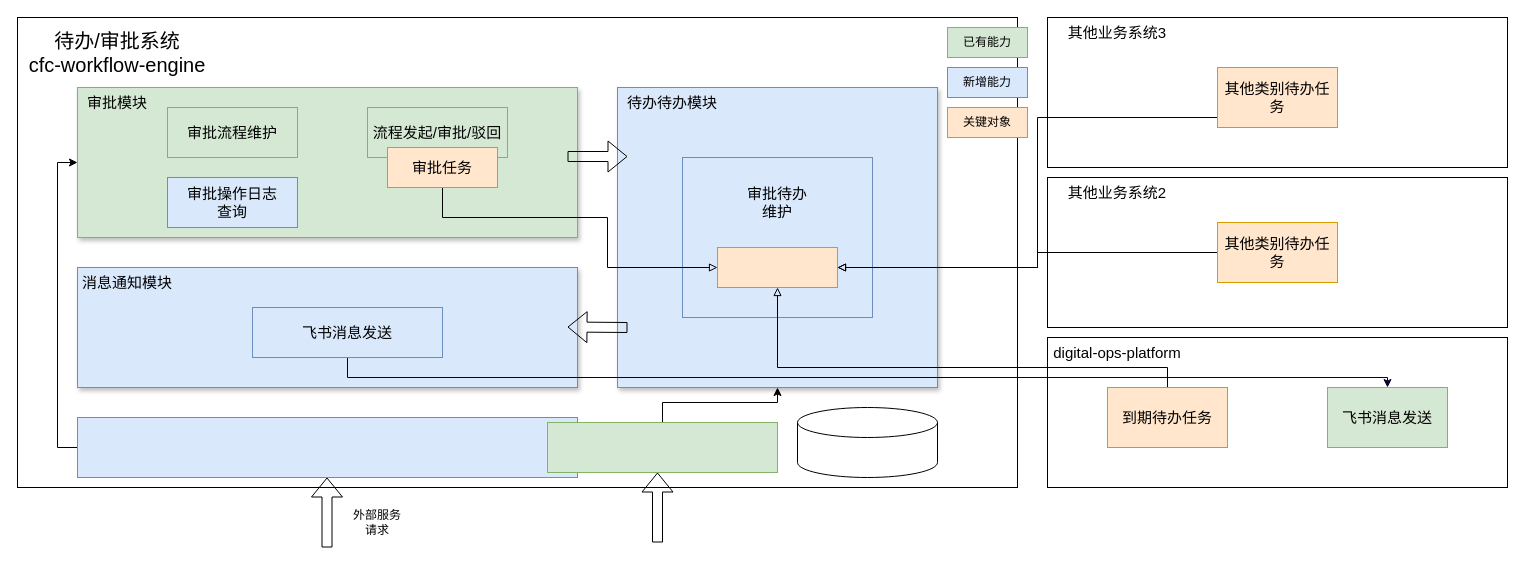
This 1525x565 diagram has some shape labels left out. Here are the shapes that lost their labels. From the top down, the centre of each, then its label:
At [777,267]: "待办对象".
At [327,447]: "SDK".
At [662,447]: "Dubbo接口".
At [867,442]: "mifi_admin_rbac".
